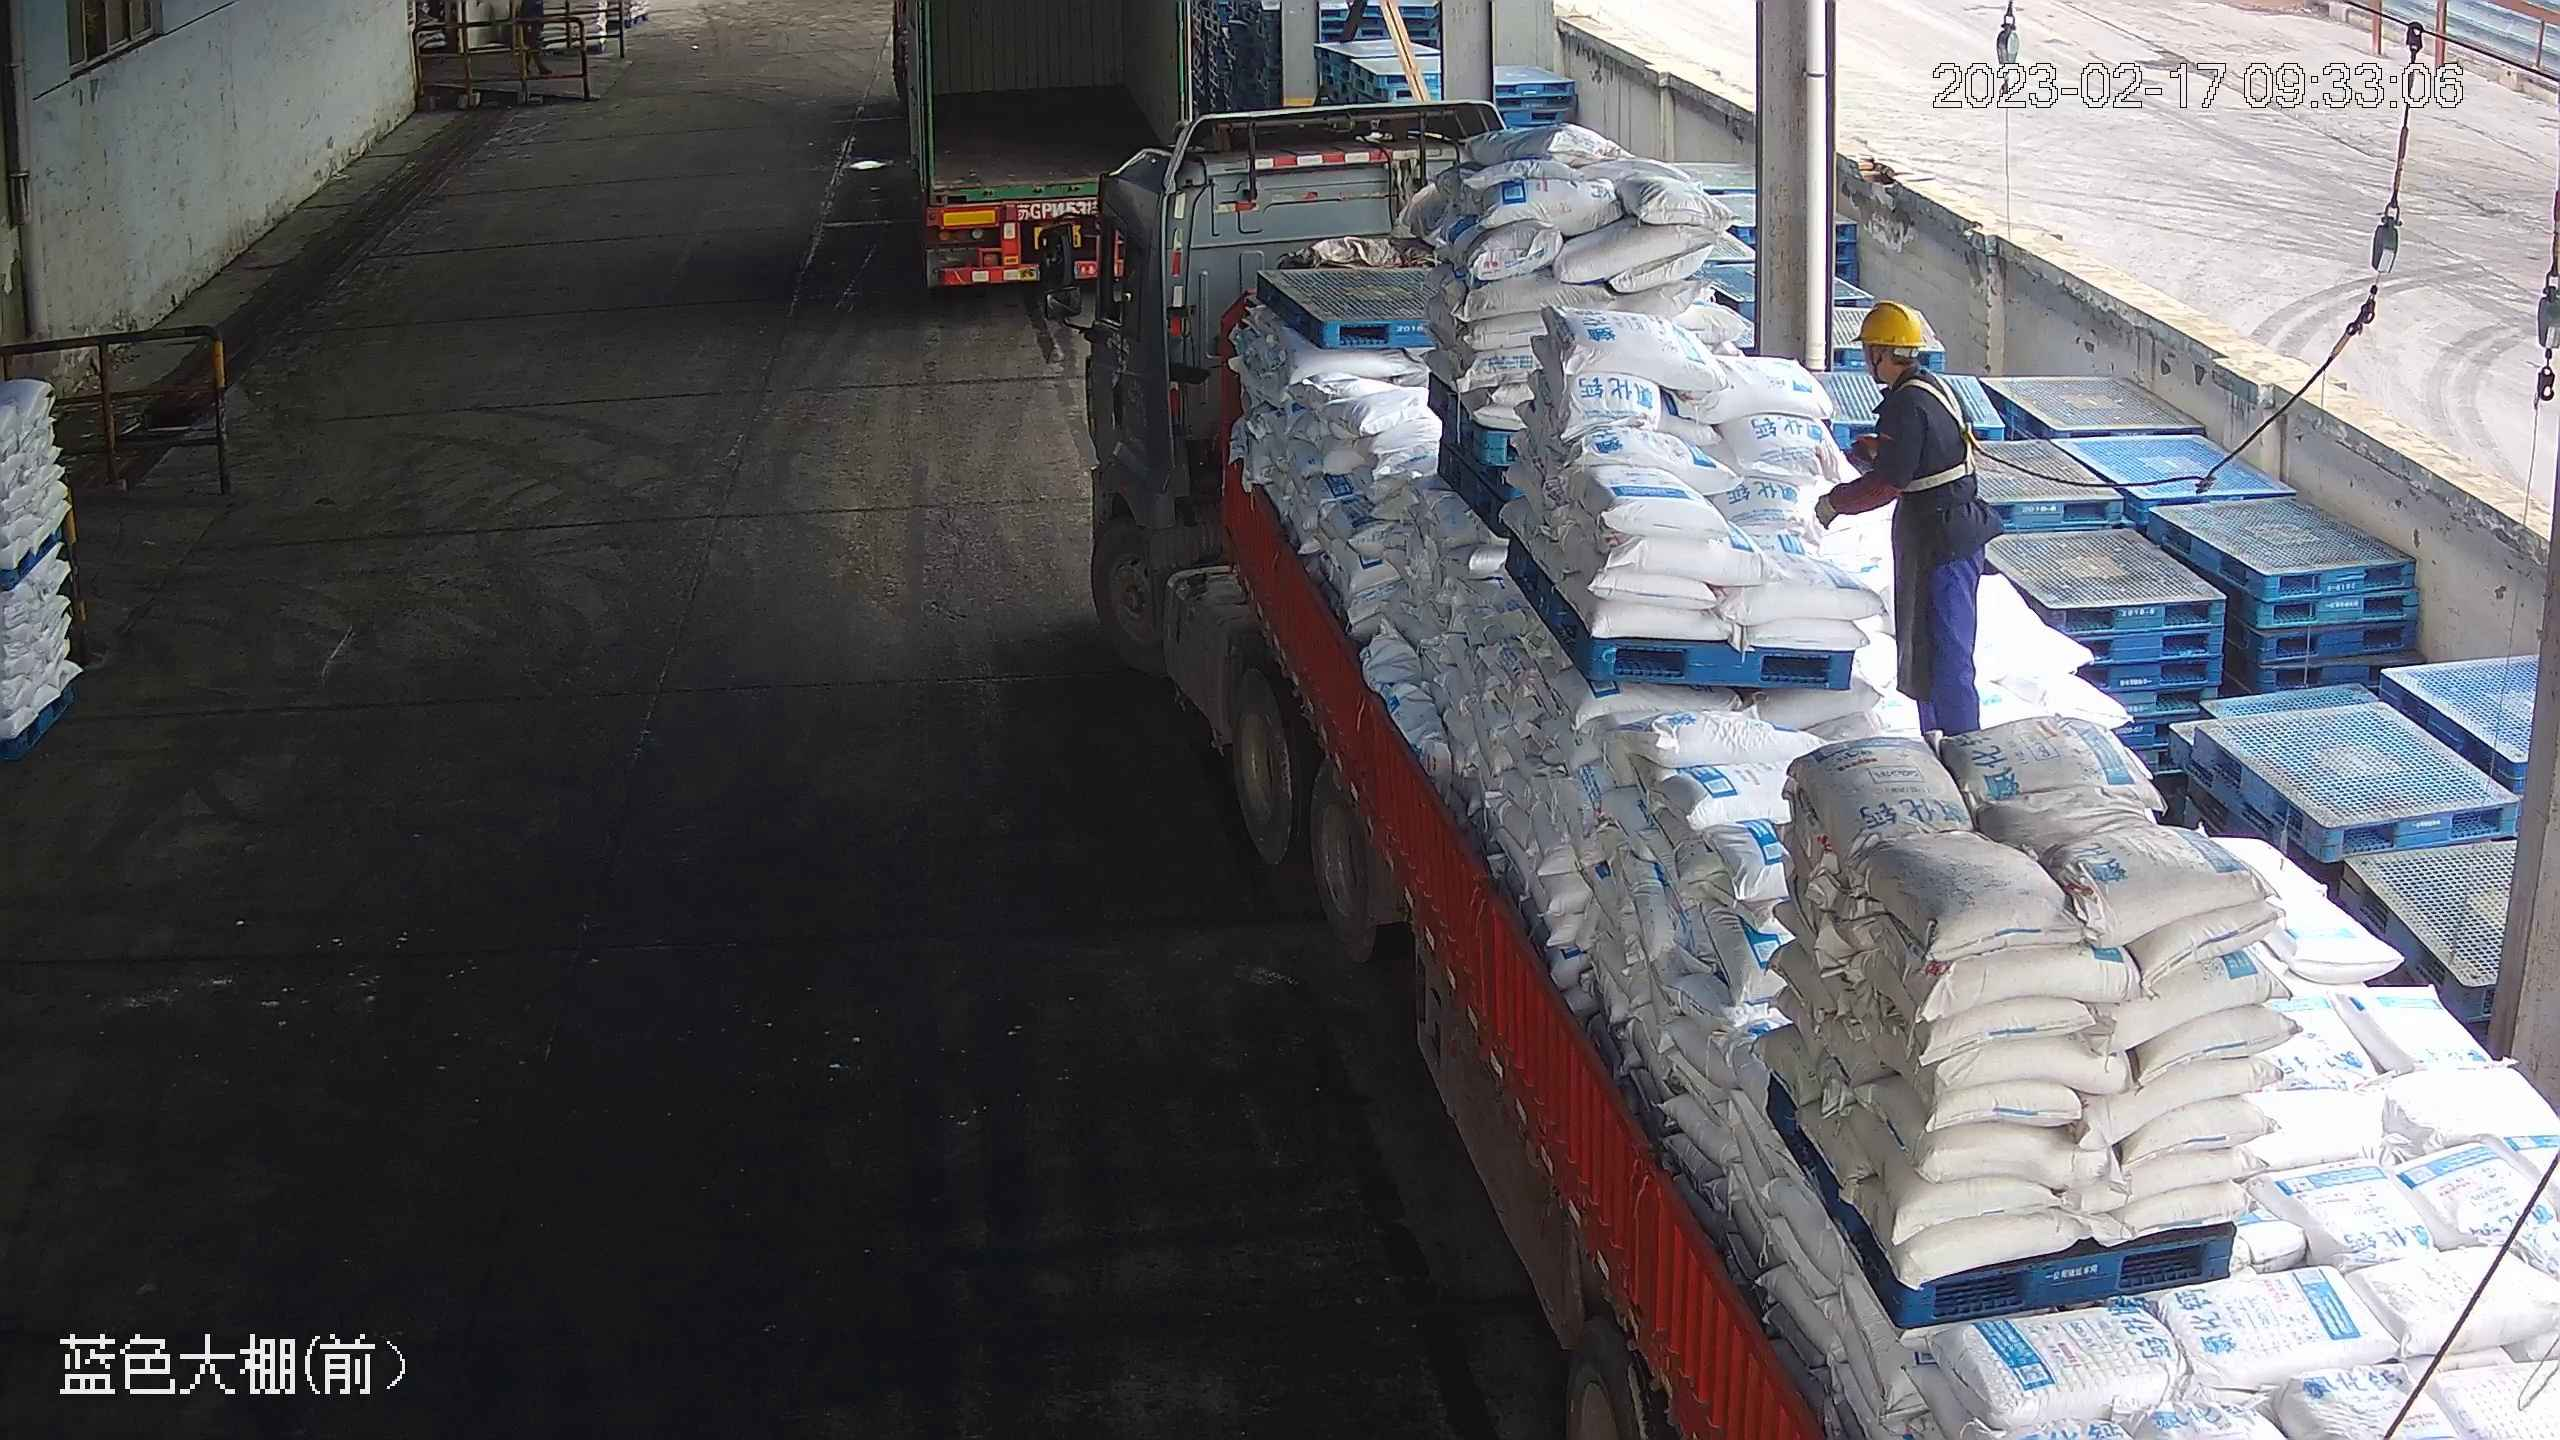belt: (1899, 374, 1994, 494)
head: (1851, 296, 1976, 436)
helmet: (1850, 295, 1930, 351)
people: (1809, 297, 1994, 756)
truck: (1049, 115, 2554, 1440), (882, 1, 1196, 295)
